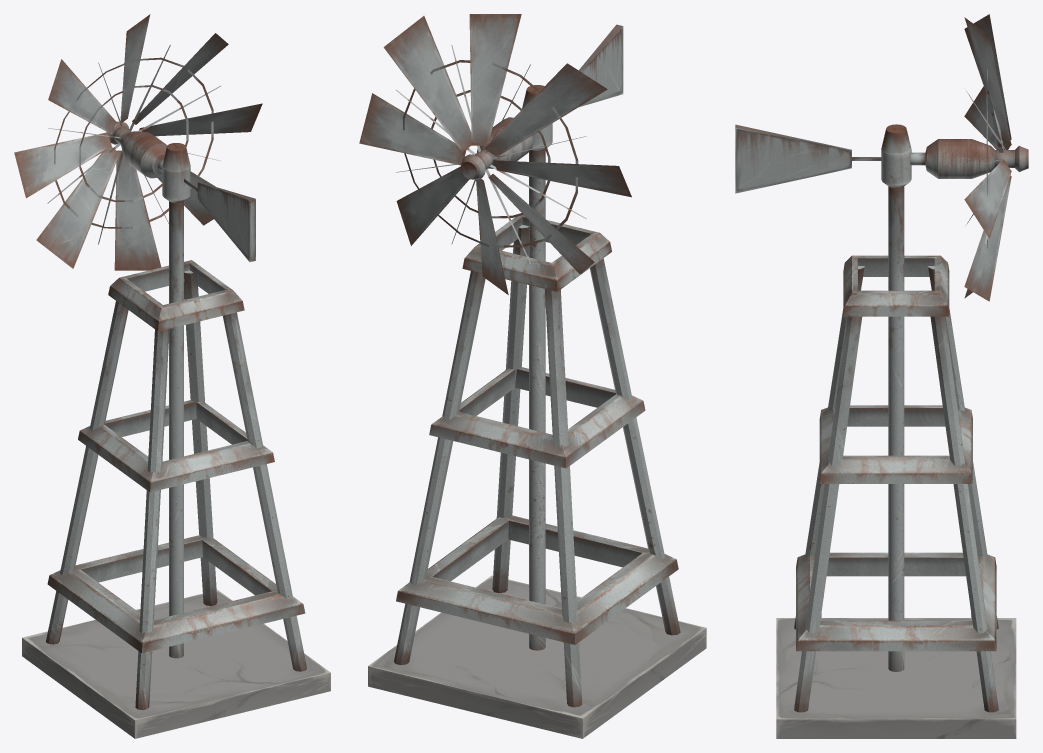
Rendered from WindmillNew.fbx.
3 renders of one model, left to right at view 1: azimuth 30°, elevation 25°; view 2: azimuth 150°, elevation 25°; view 3: azimuth 270°, elevation 25°, orthographic. The views are drawn at different scales.
Parts seen in each view (by area): view 1: polySurface12; view 2: polySurface12; view 3: polySurface12.
Part boxes in pixels (x1,y1,x2,y2): polySurface12: (14,14,330,738); polySurface12: (359,14,706,738); polySurface12: (735,14,1028,738).
Bounding box in the file's own units: 13.38 × 33.64 × 13.51.
